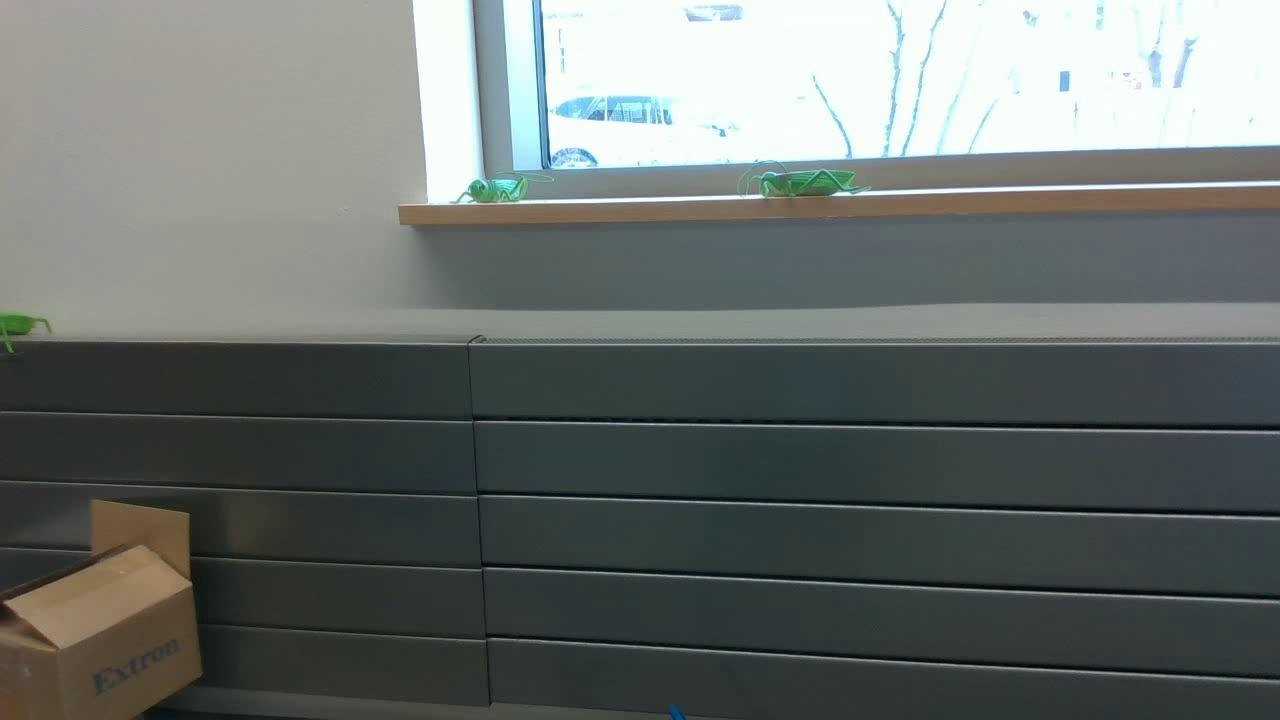grasshopper: (738, 163, 877, 201), (452, 157, 533, 203), (1, 299, 46, 363)
